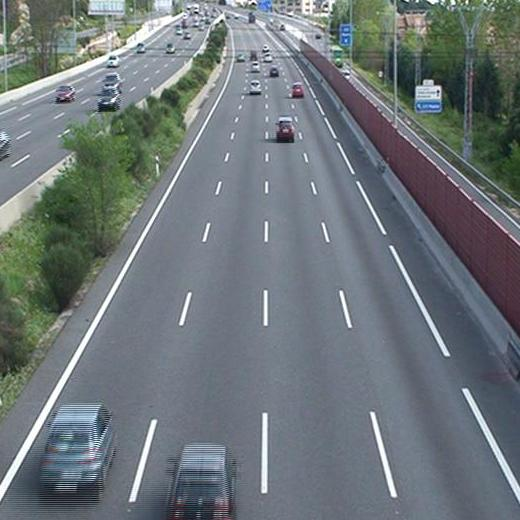car: (39, 402, 116, 497), (163, 444, 239, 520), (276, 117, 296, 142), (248, 80, 263, 95), (292, 82, 305, 98), (249, 61, 260, 74), (268, 65, 279, 78)
